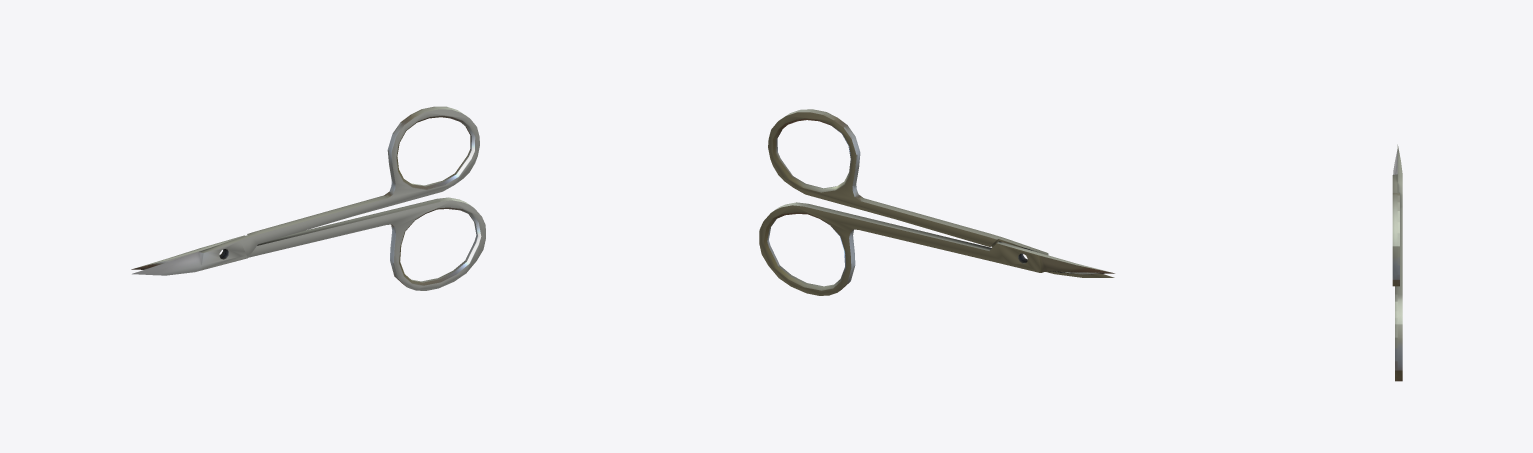
The model's file is scissor_w_collider.glb.
The picture shows the model from 3 angles, left to right: view 1: azimuth 30°, elevation 25°; view 2: azimuth 150°, elevation 25°; view 3: azimuth 270°, elevation 25°; orthographic projection. The views are drawn at different scales.
Visible parts, largest first — view 1: scissor; view 2: scissor; view 3: scissor.
Part boxes in pixels (x1,y1,x2,y2): scissor: (131,106,485,290); scissor: (759,109,1114,295); scissor: (1392,144,1402,381).
Size of the model in its own units: 0.3018 by 0.133 by 0.1473.
Materials: 2 (1 with a texture image).
